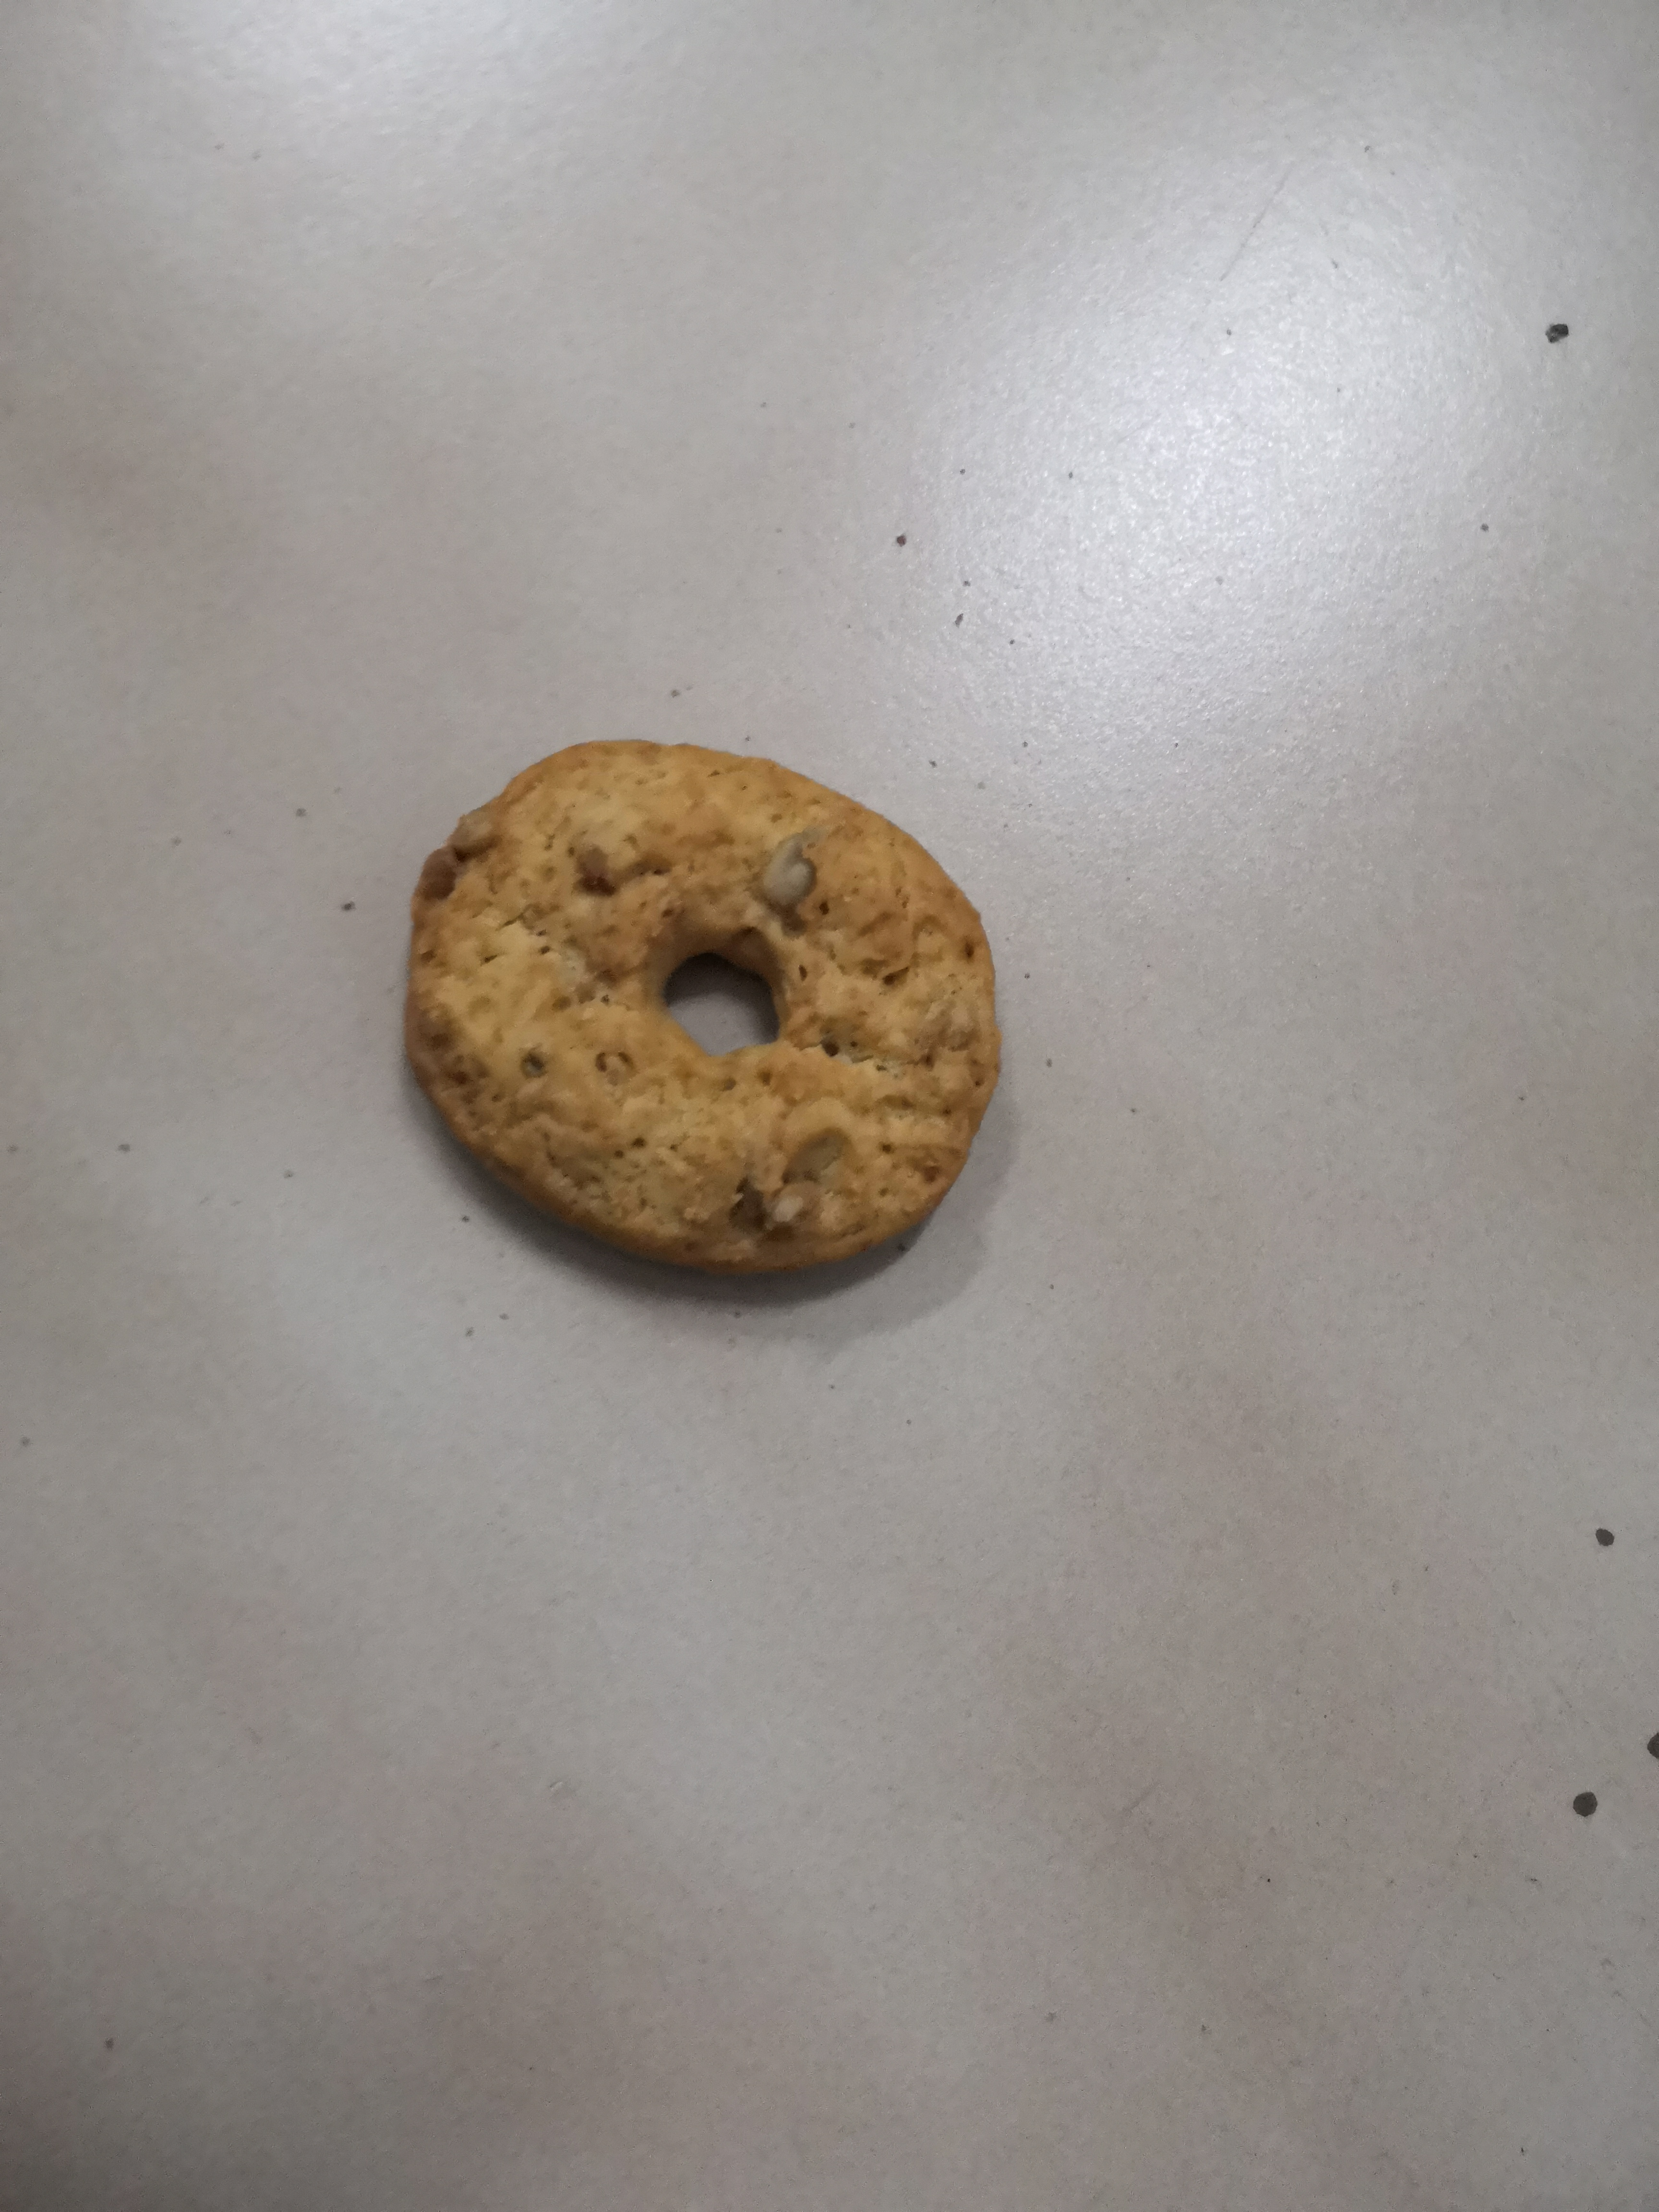Cookie4: (410, 735, 1009, 1273)
